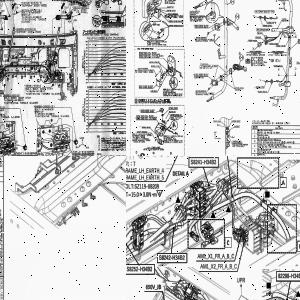PartNumber: (134, 182, 160, 190), (158, 254, 186, 261), (190, 158, 217, 165), (126, 265, 152, 272), (278, 272, 300, 279), (3, 94, 20, 97), (25, 84, 41, 87), (34, 105, 50, 108), (73, 150, 89, 153), (22, 1, 38, 4), (21, 9, 38, 11), (16, 152, 32, 154), (16, 28, 32, 30), (74, 6, 89, 8), (170, 113, 180, 116), (138, 67, 146, 70), (194, 26, 204, 28), (137, 131, 146, 133), (136, 118, 145, 120), (136, 116, 145, 118), (136, 115, 145, 117), (169, 107, 178, 109), (149, 62, 158, 64), (139, 55, 148, 57), (167, 10, 176, 12), (195, 36, 204, 38), (194, 73, 203, 75), (195, 90, 204, 92), (276, 45, 285, 47), (269, 42, 278, 44), (248, 40, 257, 42), (141, 111, 149, 113), (141, 109, 149, 111), (139, 85, 147, 87), (151, 65, 159, 67), (169, 20, 177, 22), (168, 13, 176, 15), (274, 65, 282, 67), (256, 86, 264, 88), (138, 52, 148, 53), (139, 57, 148, 58), (139, 54, 148, 55), (169, 25, 178, 26), (194, 75, 203, 76), (258, 91, 267, 92), (267, 22, 276, 23), (263, 25, 272, 26), (139, 87, 147, 88), (195, 25, 203, 26), (297, 40, 300, 42), (297, 39, 300, 41)
